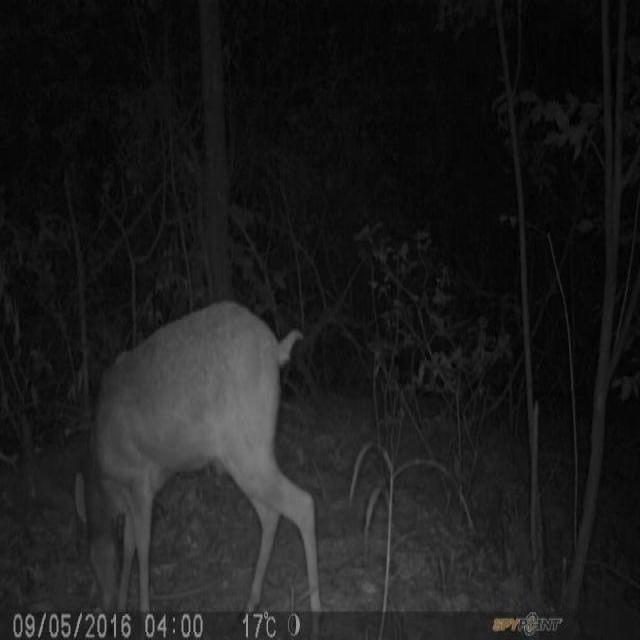deer: (73, 304, 323, 608)
